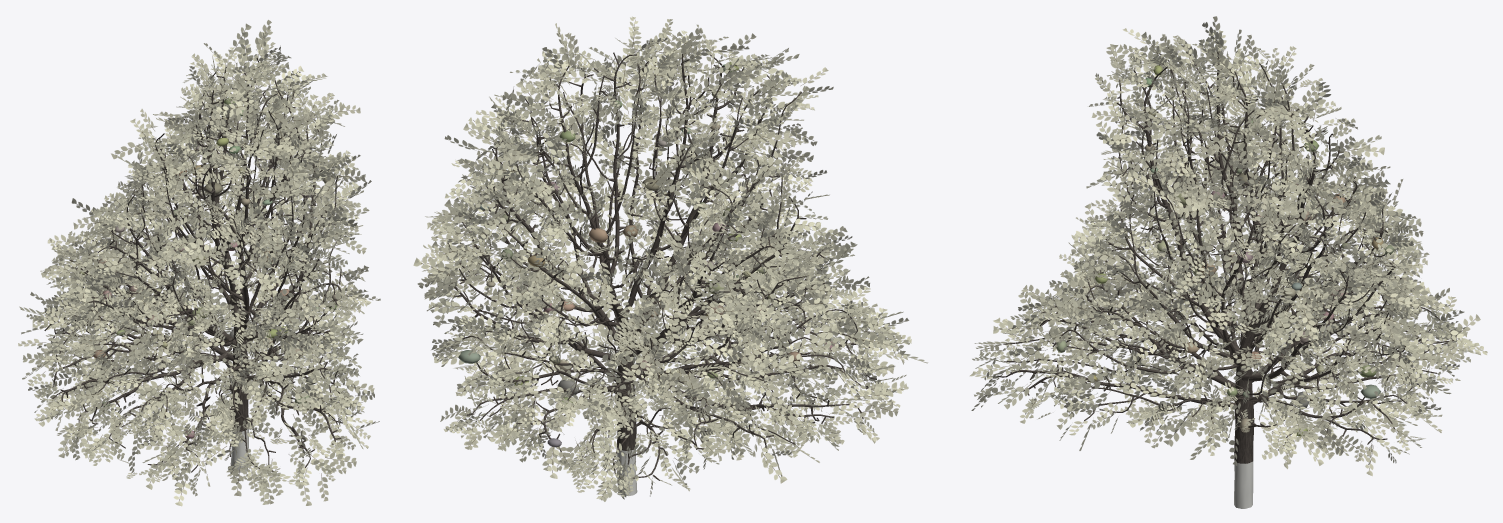
File: tree_20_camphor.glb
The picture shows the model from 3 angles, left to right: view 1: azimuth 30°, elevation 25°; view 2: azimuth 150°, elevation 25°; view 3: azimuth 270°, elevation 25°; orthographic projection. The views are drawn at different scales.
Visible parts, largest first — view 1: tree_20_camphor.leaves, tree_20_camphor.trunk_branches, tree_20_camphor.foliage_volume, tree_20_camphor.trunk_whitewash; view 2: tree_20_camphor.leaves, tree_20_camphor.trunk_branches, tree_20_camphor.foliage_volume; view 3: tree_20_camphor.leaves, tree_20_camphor.trunk_branches, tree_20_camphor.foliage_volume, tree_20_camphor.trunk_whitewash.
Part boxes in pixels (x1,y1,x2,y2): tree_20_camphor.leaves: (18, 20, 380, 506); tree_20_camphor.trunk_branches: (44, 58, 342, 472); tree_20_camphor.foliage_volume: (79, 97, 337, 438); tree_20_camphor.trunk_whitewash: (230, 429, 248, 472); tree_20_camphor.leaves: (413, 16, 927, 501); tree_20_camphor.trunk_branches: (447, 50, 876, 480); tree_20_camphor.foliage_volume: (458, 62, 834, 447); tree_20_camphor.leaves: (970, 16, 1487, 476); tree_20_camphor.trunk_branches: (997, 51, 1456, 463); tree_20_camphor.foliage_volume: (1056, 65, 1422, 436); tree_20_camphor.trunk_whitewash: (1234, 460, 1253, 508).
Size of the model in its own units: 12.28 by 13.7 by 13.91.
Materials: 4 (2 with a texture image).
